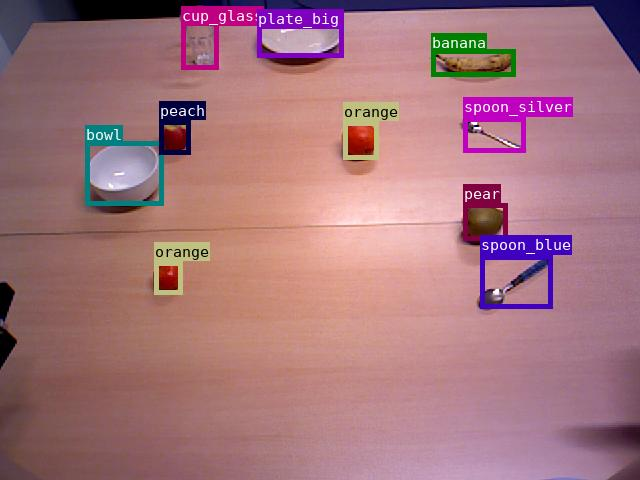banana: (431, 49, 515, 76)
bowl: (85, 141, 163, 205)
cup_glass: (181, 6, 218, 69)
orange: (343, 121, 378, 159), (154, 261, 182, 294)
peach: (159, 120, 190, 154)
pear: (463, 203, 507, 240)
plate_big: (257, 9, 343, 57)
spoon_blue: (480, 255, 552, 308)
spoon_silver: (463, 117, 525, 152)
